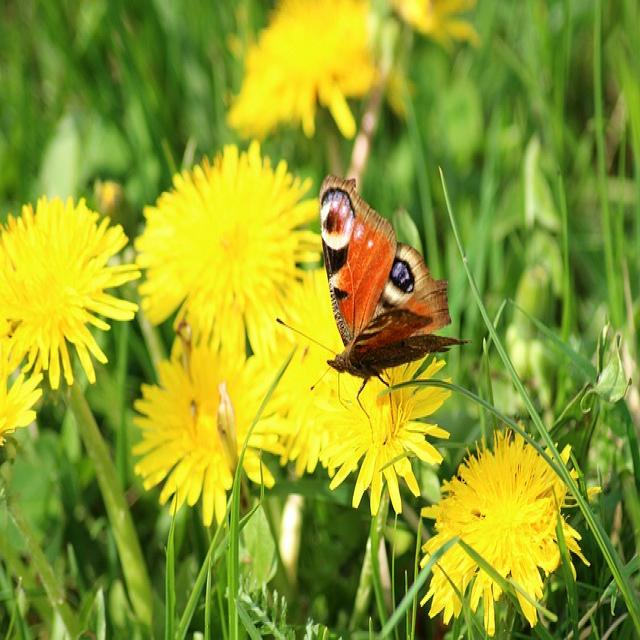butterfly: (318, 177, 457, 379)
